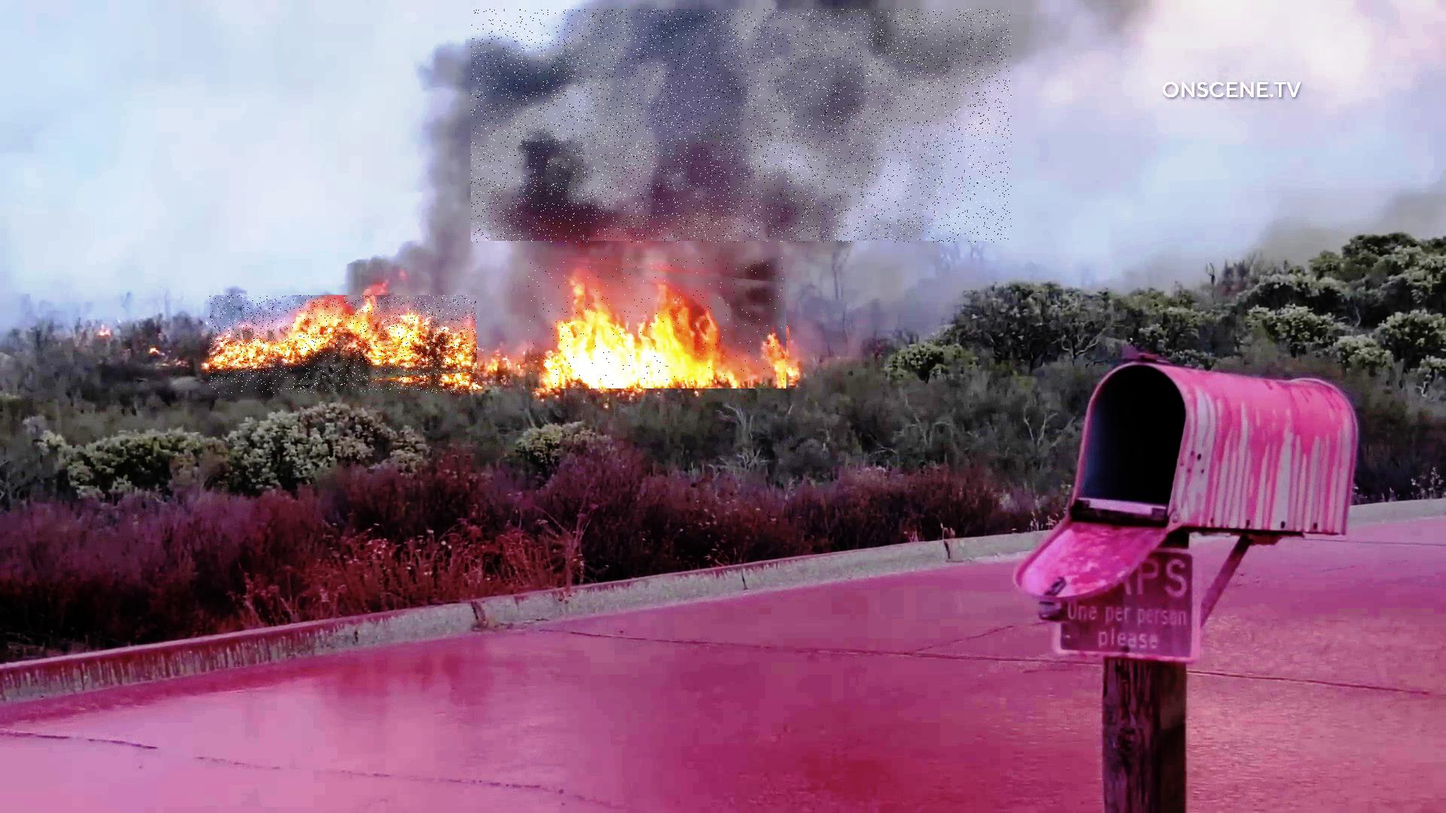fire: (526, 258, 789, 390), (210, 296, 479, 394)
smoke: (471, 10, 1012, 243)
